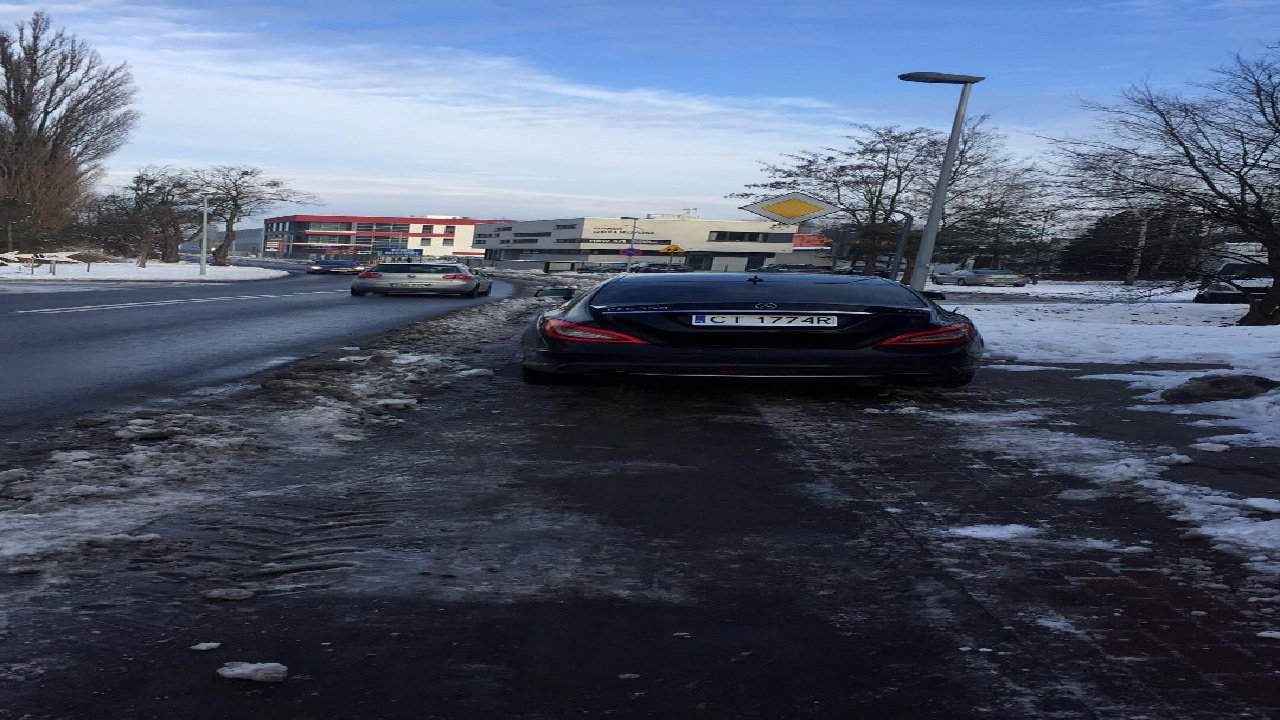D1: (740, 191, 844, 226)
